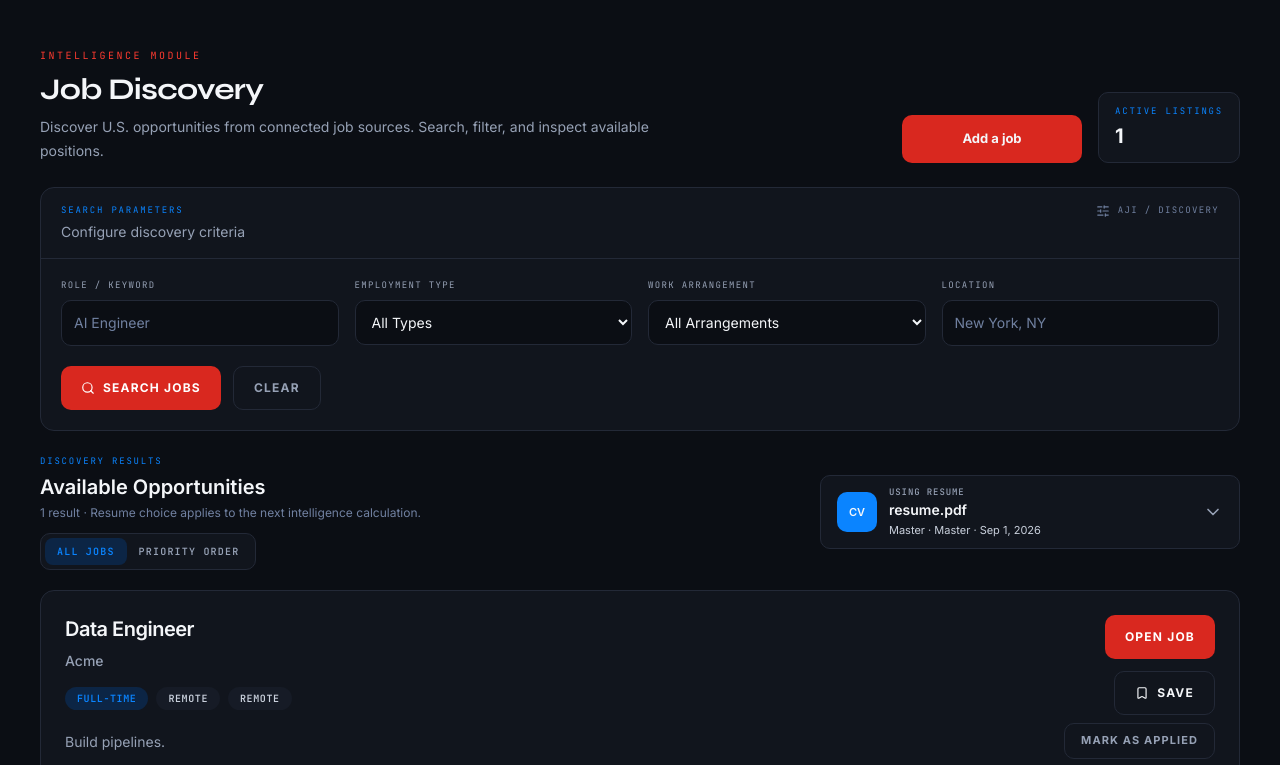
Test: Jobs page — AJI-023 decision workflow › opens a listed job into its workflow view
Step 1. Click the button with aria-label "Open job workflow for Data Engineer" → click(1160, 636), box [1105, 614, 1215, 658]
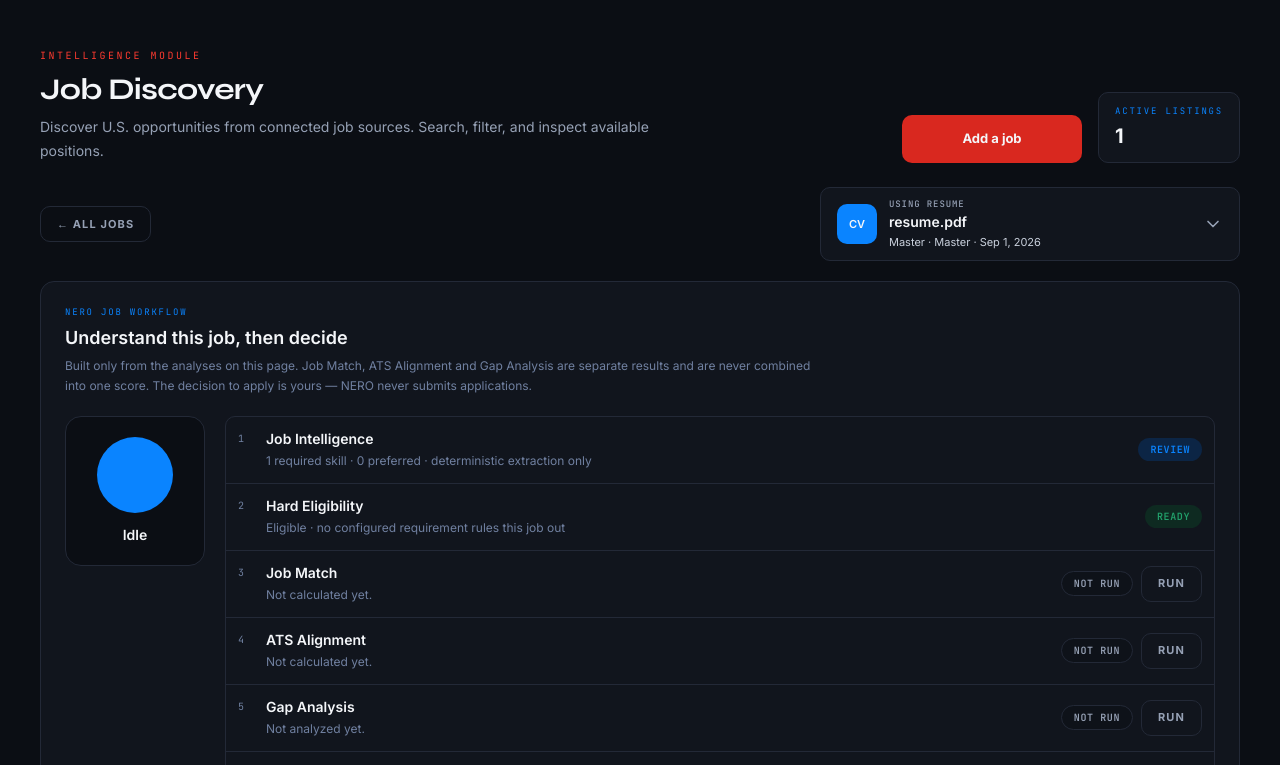
Expected: the heading "Understand this job, then decide" is shown, [65, 326, 348, 348]
